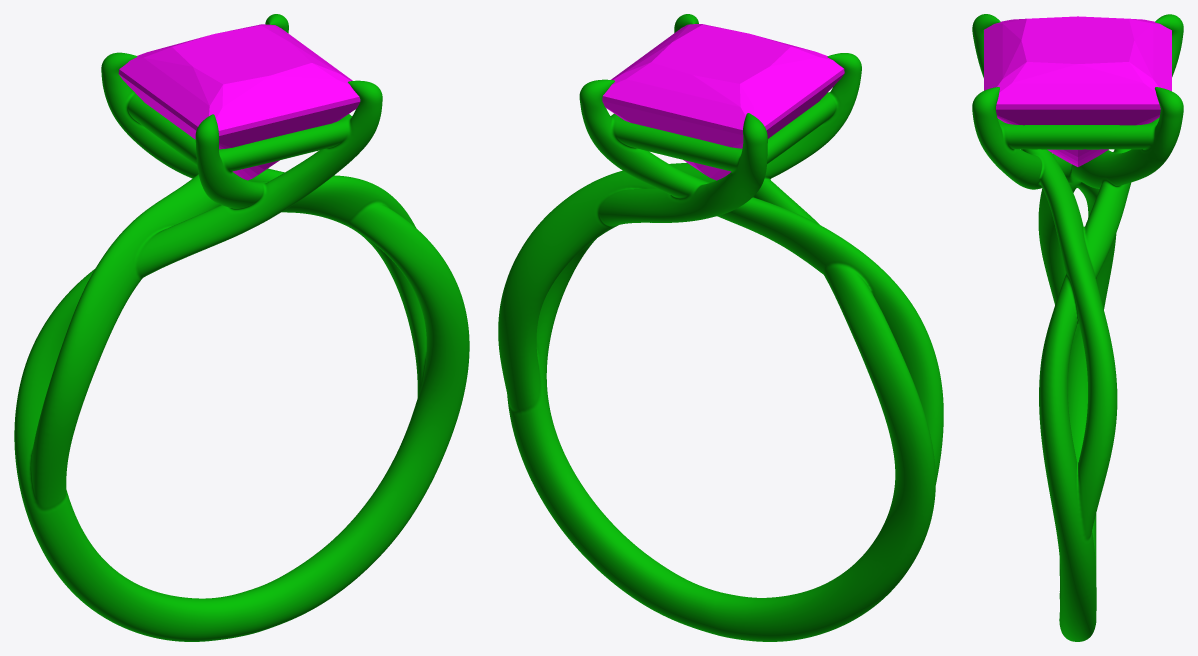
File: BE1818_PR_200ct_RENDER.glb
3 views of the same model, side by side, from view 1: azimuth 30°, elevation 25°; view 2: azimuth 150°, elevation 25°; view 3: azimuth 270°, elevation 25° (orthographic).
Parts seen in each view (by area): view 1: Metal 01, CS_Diamond_Princess; view 2: Metal 01, CS_Diamond_Princess; view 3: Metal 01, CS_Diamond_Princess.
Boxes of the visible parts, x1,y1,x2,y2 form: Metal 01: (14,14,469,641); CS_Diamond_Princess: (118,24,360,180); Metal 01: (498,14,943,641); CS_Diamond_Princess: (602,24,844,180); Metal 01: (972,14,1183,641); CS_Diamond_Princess: (984,16,1171,166).
Bounding box in the file's own units: 20.06 × 25.4 × 8.43.
